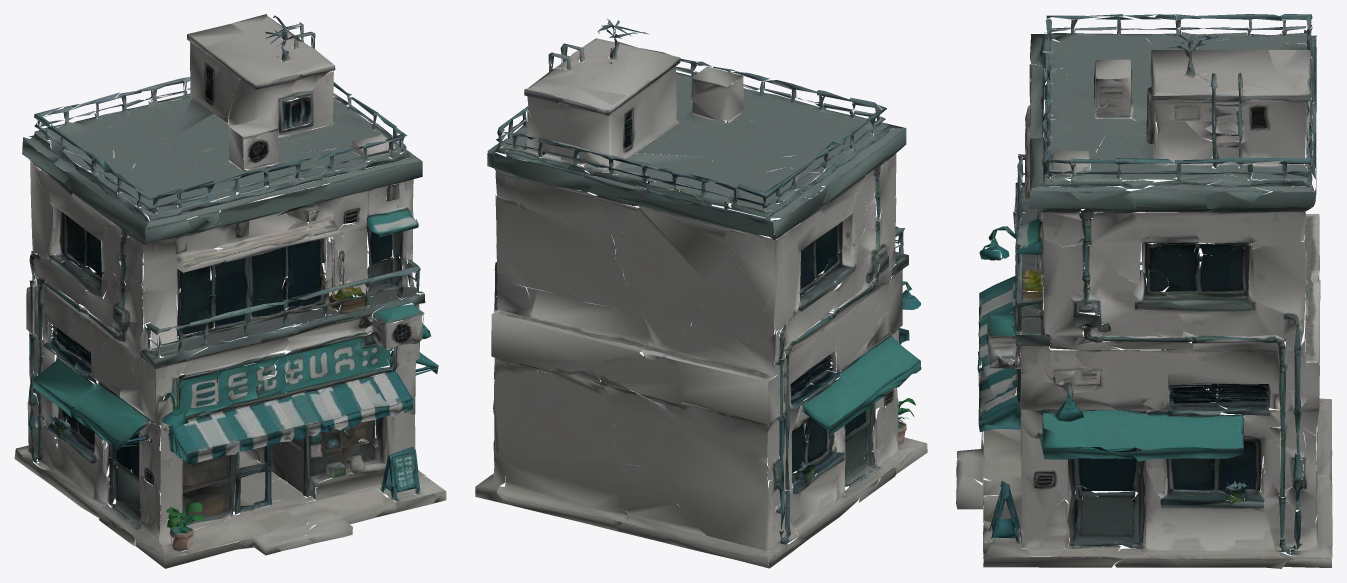
The model's file is building4.glb.
3 views of the same model, side by side, from view 1: azimuth 30°, elevation 25°; view 2: azimuth 150°, elevation 25°; view 3: azimuth 270°, elevation 25° (orthographic). The views are drawn at different scales.
Parts seen in each view (by area): view 1: tripo_node_fda68afc-b3b2-4933-b97b-1450896ce0bf; view 2: tripo_node_fda68afc-b3b2-4933-b97b-1450896ce0bf; view 3: tripo_node_fda68afc-b3b2-4933-b97b-1450896ce0bf.
Boxes of the visible parts, x1,y1,x2,y2 form: tripo_node_fda68afc-b3b2-4933-b97b-1450896ce0bf: (14, 14, 446, 568); tripo_node_fda68afc-b3b2-4933-b97b-1450896ce0bf: (475, 19, 927, 568); tripo_node_fda68afc-b3b2-4933-b97b-1450896ce0bf: (956, 14, 1332, 568).
Size of the model in its own units: 0.7901 by 1 by 0.692.
1 material, 1 textured.
